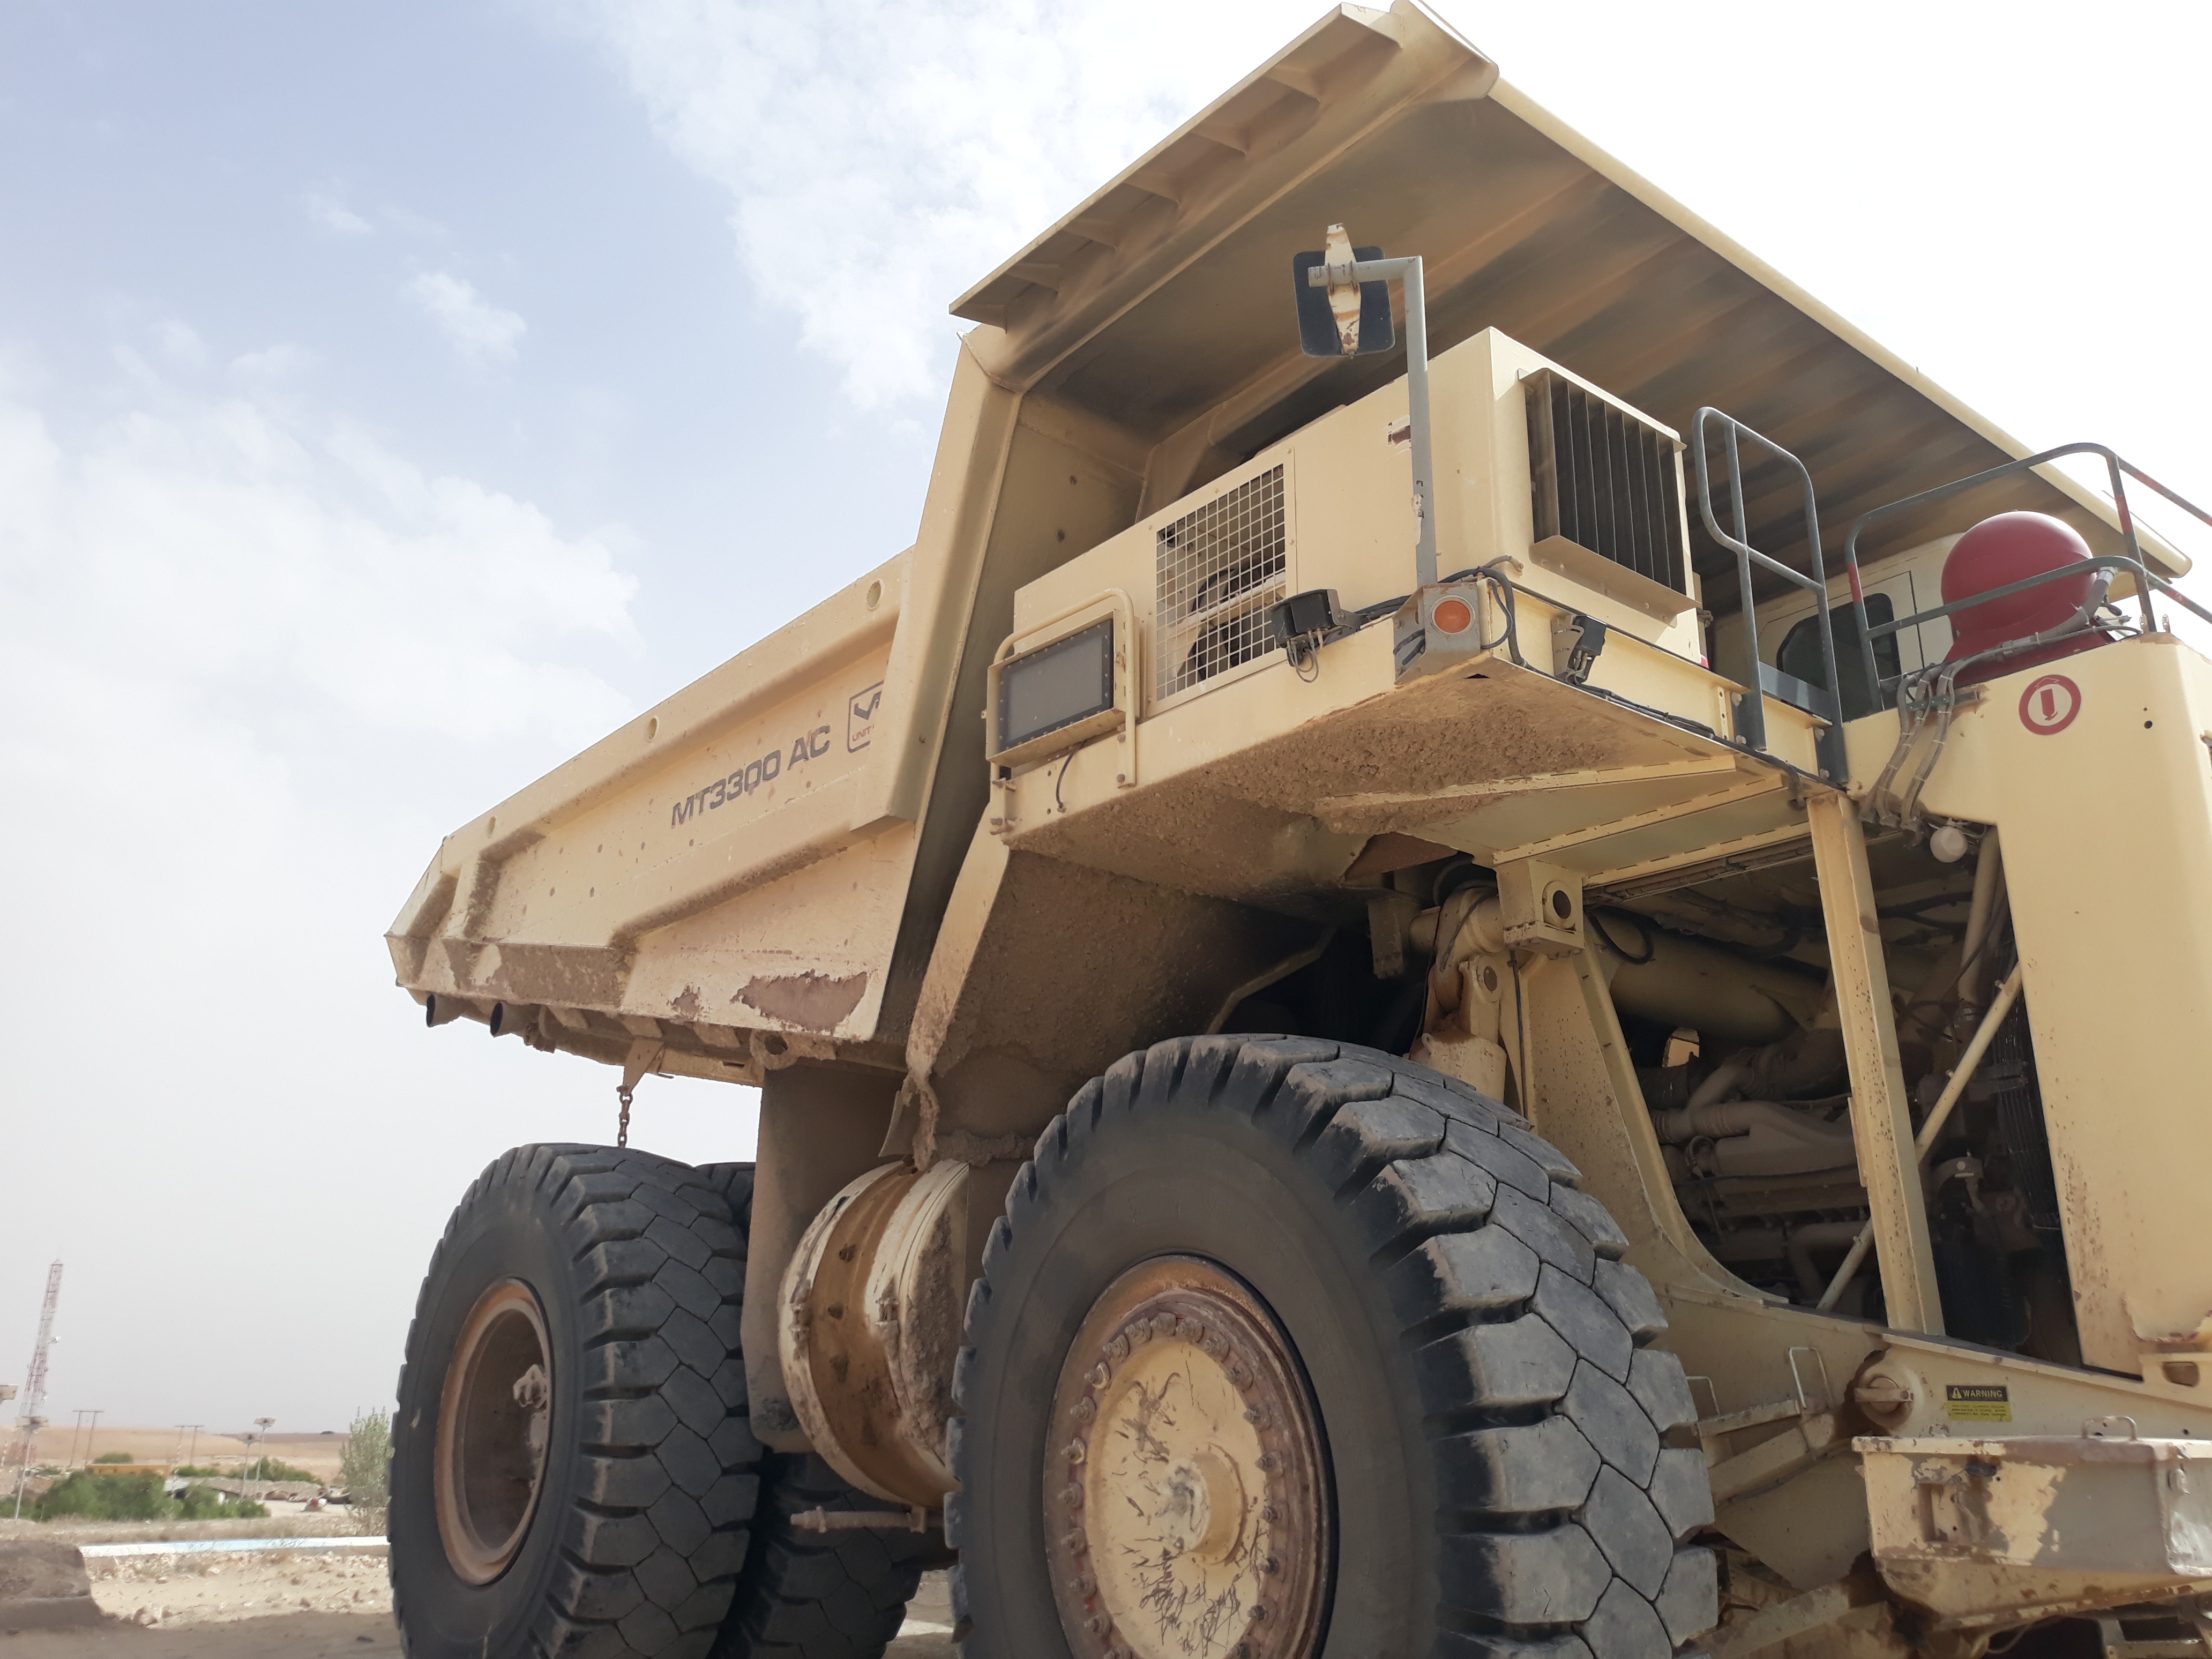camion: (441, 28, 2212, 1638)
